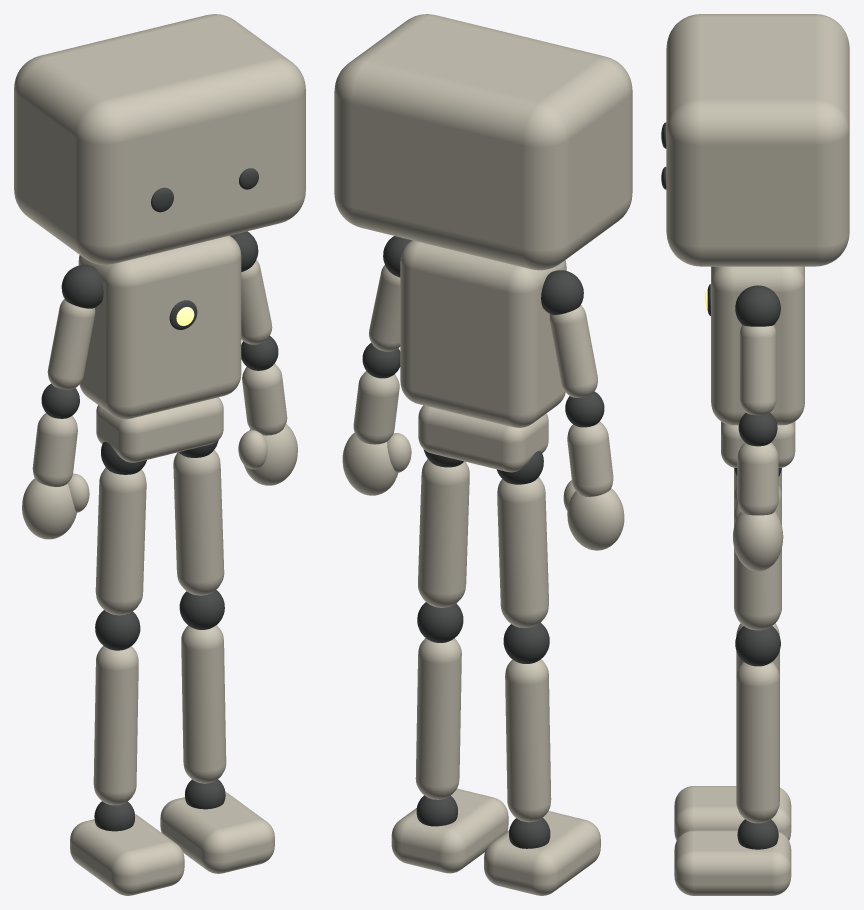
Rendered from simple-robot-v1.glb.
The picture shows the model from 3 angles, left to right: view 1: azimuth 30°, elevation 25°; view 2: azimuth 150°, elevation 25°; view 3: azimuth 270°, elevation 25°; orthographic projection. The views are drawn at different scales.
Parts seen in each view (by area): view 1: Head, Torso, LeftThigh, LeftShin, RightShin, RightThigh, LeftFoot, RightFoot, Pelvis, LeftUpperArm, LeftForearm, RightForearm (+14 smaller); view 2: Head, Torso, LeftThigh, LeftShin, RightShin, RightThigh, LeftFoot, RightFoot, Pelvis, LeftUpperArm, LeftForearm, LeftHand (+13 smaller); view 3: Head, Torso, RightShin, RightFoot, LeftFoot, RightUpperArm, RightThigh, RightForearm, RightHand, RightShoulder, Pelvis, RightKnee (+2 smaller).
Part boxes in pixels (x1,y1,x2,y2): Head: [14, 14, 305, 264]; Torso: [78, 235, 241, 419]; LeftThigh: [95, 467, 146, 615]; LeftShin: [93, 646, 138, 805]; RightShin: [181, 625, 226, 783]; RightThigh: [173, 450, 224, 595]; LeftFoot: [70, 814, 184, 895]; RightFoot: [160, 792, 274, 873]; Pelvis: [96, 397, 223, 462]; LeftUpperArm: [47, 299, 95, 389]; LeftForearm: [32, 413, 77, 486]; RightForearm: [242, 363, 287, 435]; Head: [334, 14, 632, 270]; Torso: [400, 240, 566, 427]; LeftThigh: [497, 477, 548, 627]; LeftShin: [505, 659, 551, 822]; RightShin: [415, 638, 461, 799]; RightThigh: [418, 459, 469, 607]; LeftFoot: [484, 811, 600, 895]; RightFoot: [391, 788, 508, 873]; Pelvis: [418, 405, 548, 472]; LeftUpperArm: [549, 305, 597, 397]; LeftForearm: [567, 421, 613, 496]; LeftHand: [567, 488, 624, 550]; Head: [666, 14, 849, 266]; Torso: [711, 266, 804, 425]; RightShin: [736, 662, 779, 823]; RightFoot: [674, 830, 791, 895]; LeftFoot: [674, 786, 791, 840]; RightUpperArm: [739, 325, 776, 415]; RightThigh: [734, 485, 781, 630]; RightForearm: [737, 442, 778, 515]; RightHand: [733, 511, 783, 571]; RightShoulder: [735, 285, 780, 326]; Pelvis: [721, 421, 795, 467]; RightKnee: [735, 626, 780, 666].
Size of the model in its own units: 0.3713 by 1.05 by 0.2221.
